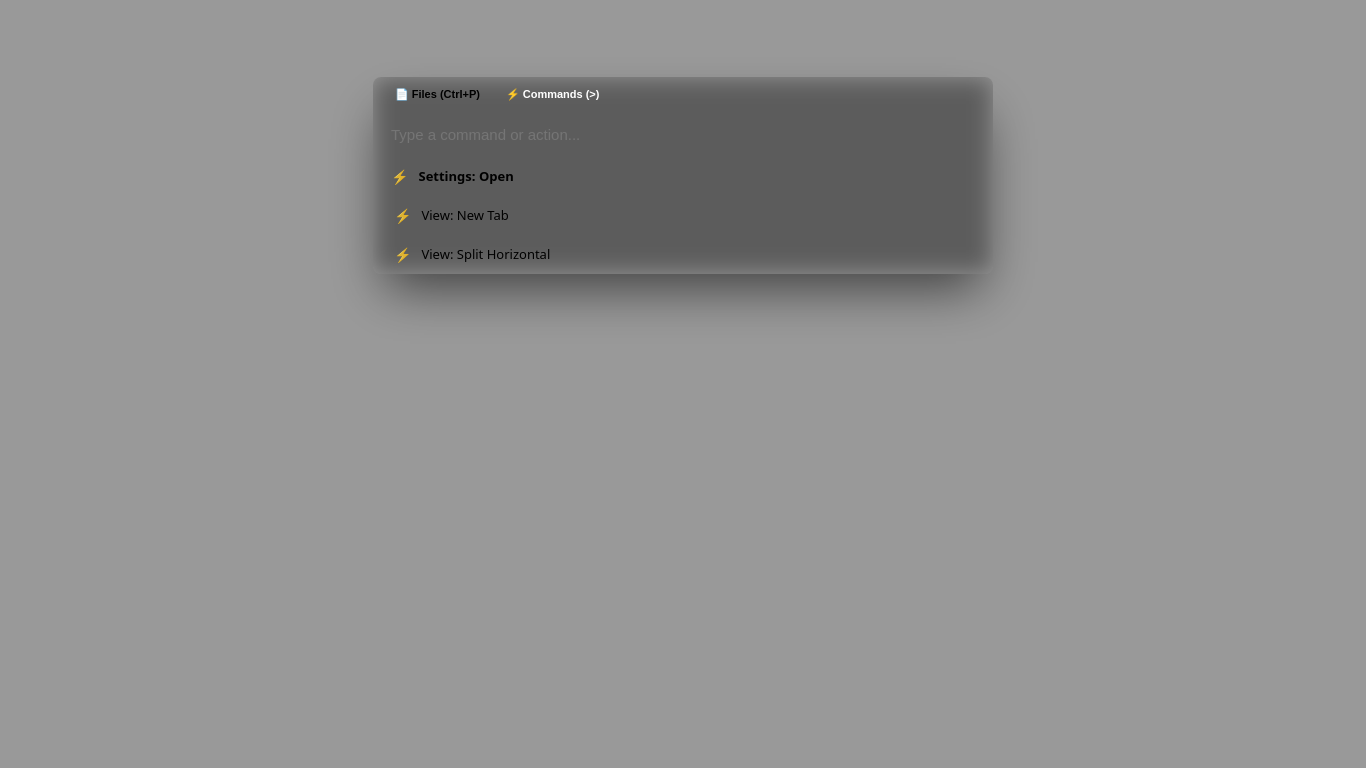
Test case: CommandPalette › filters actions by query in command mode
Type "split" into the field with placeholder "Type a command or action..." at {"x": 683, "y": 134}, box x1=373 y1=112 x2=993 y2=157
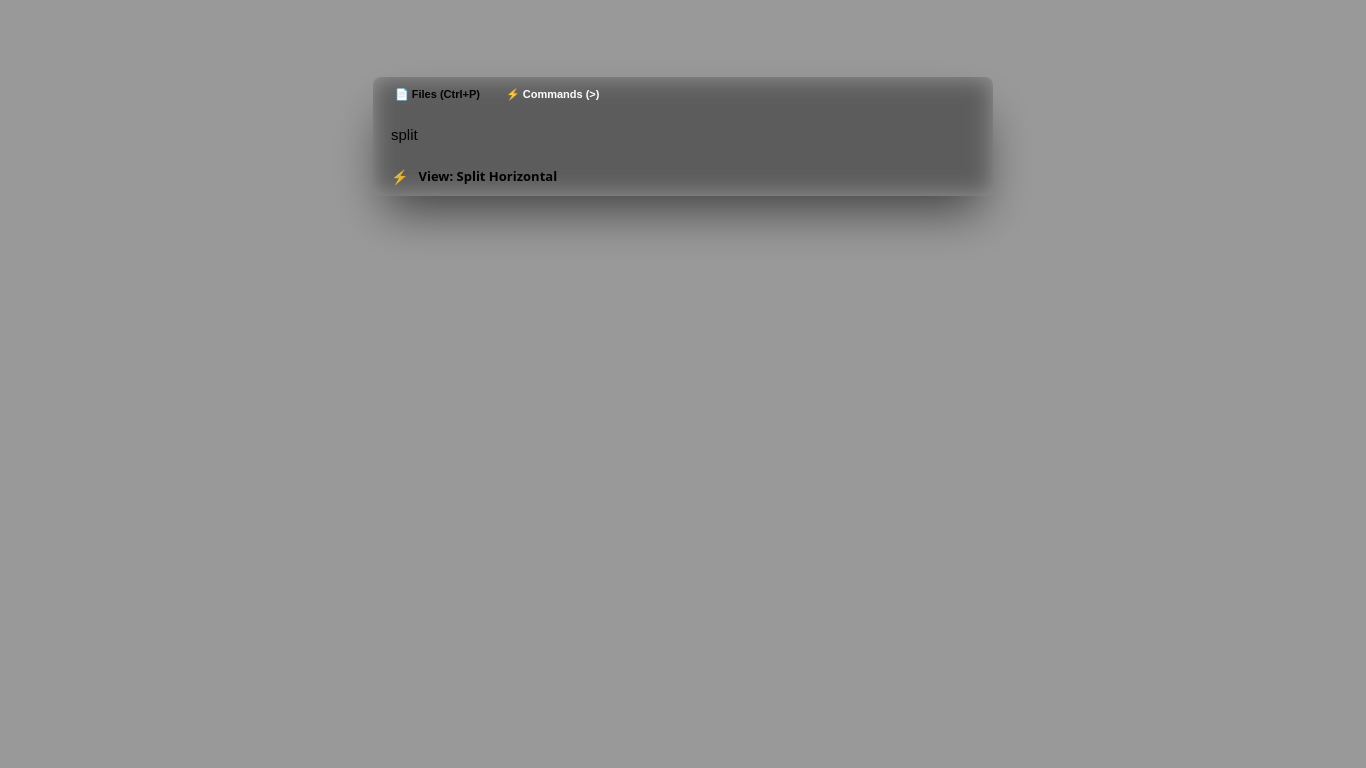
Expected: the text "View: Split Horizontal" is shown, x1=418 y1=167 x2=557 y2=185
Now the text "Settings: Open" is gone
